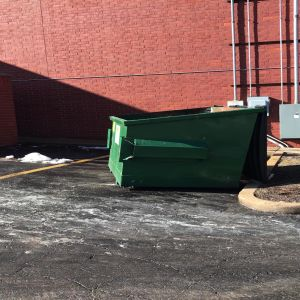Dumpster: (104, 105, 270, 196)
